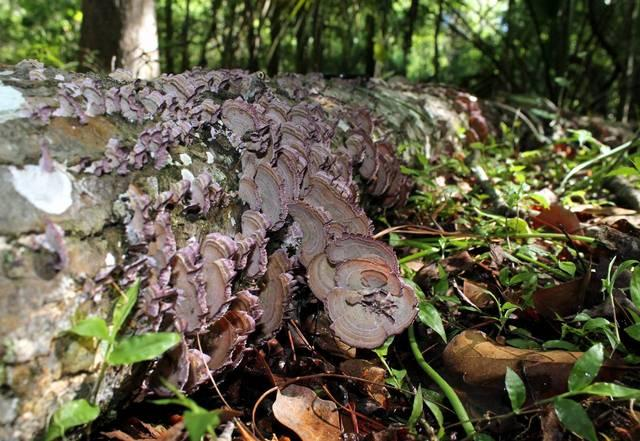Non-edible Mushroom: (305, 232, 420, 349)
